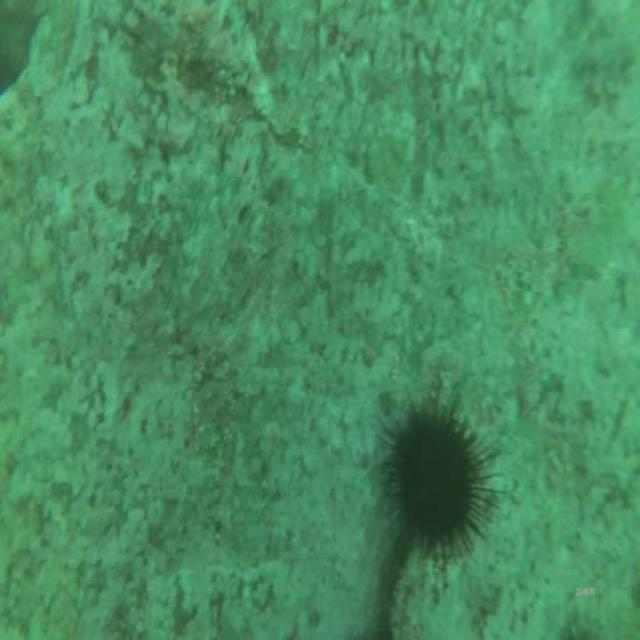echinus: (374, 372, 502, 582)
